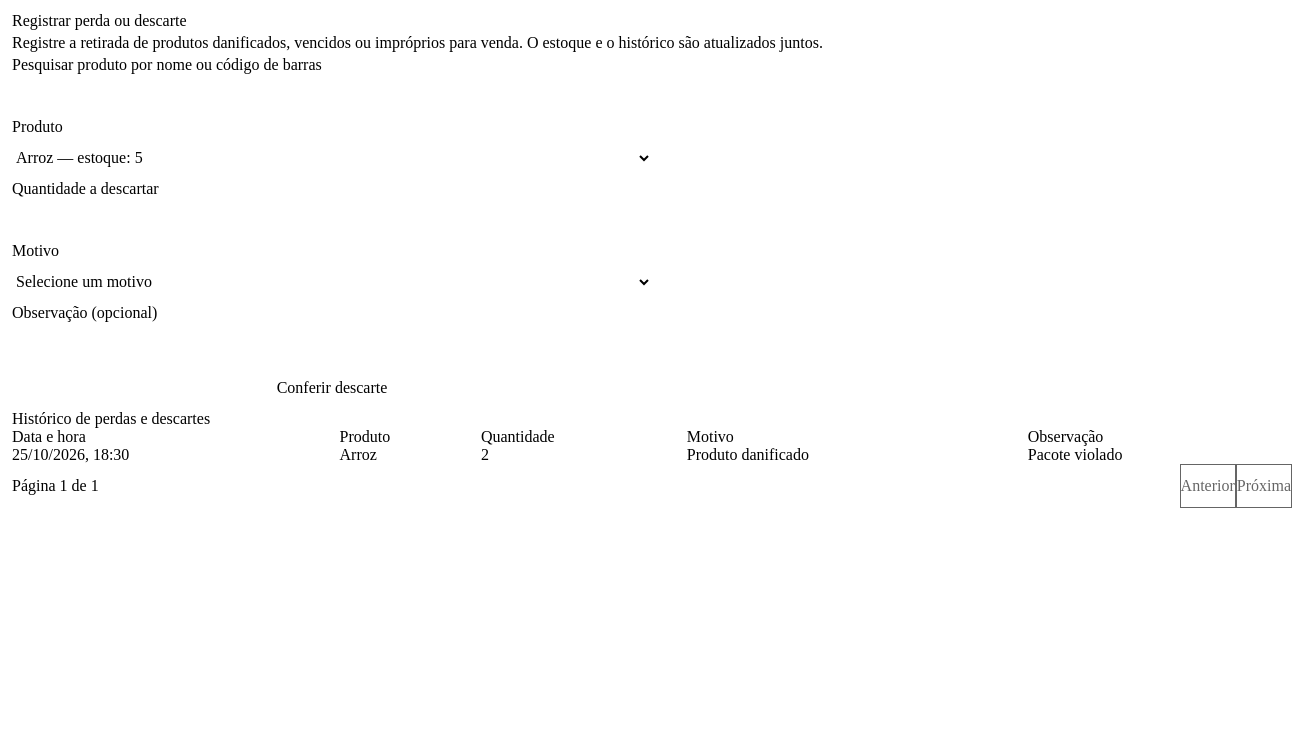
Test case: DiscardsPage › exibe formulário, estoque do produto e histórico específico de descartes
Select "Arroz — estoque: 5" in the dropdown with id "discard-product" at (332, 158), box x1=12 y1=136 x2=652 y2=180
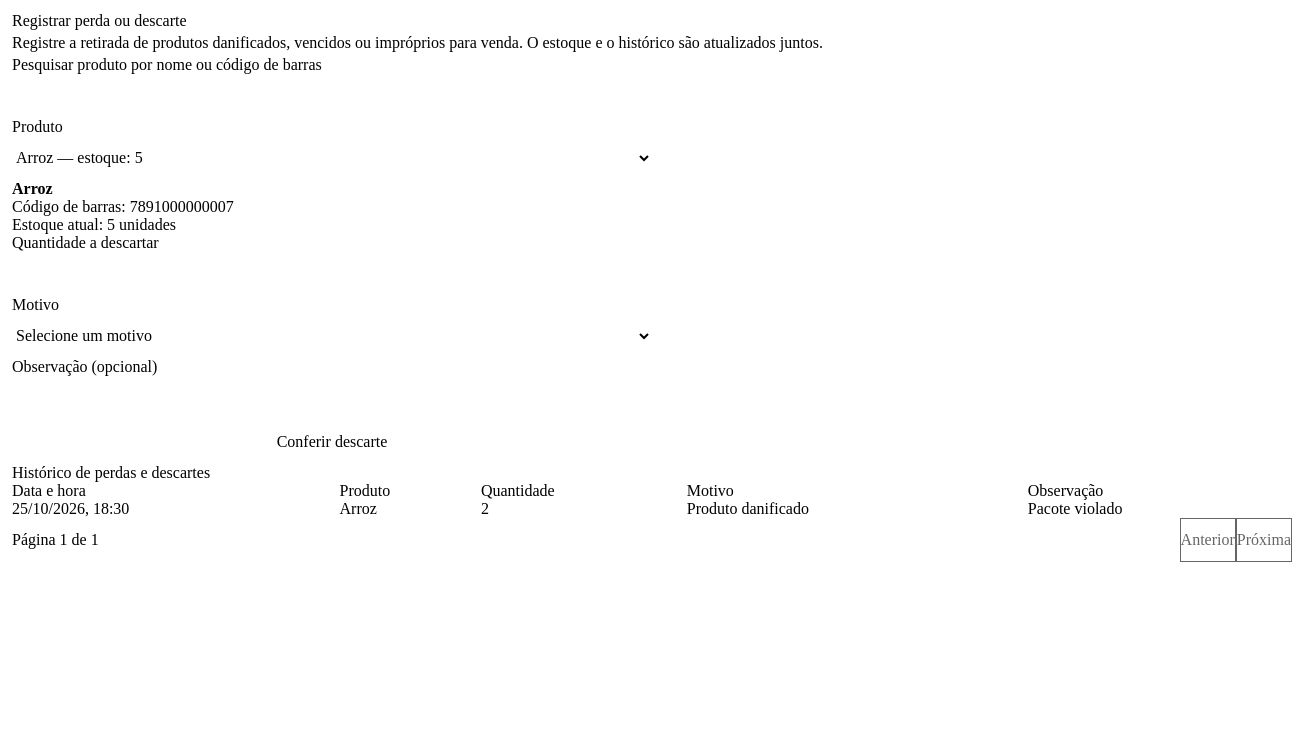
Check: the text "Registrar perda ou descarte" is shown, box x1=12 y1=12 x2=187 y2=29
Check: the text "Estoque atual: 5 unidades" is shown, box x1=12 y1=216 x2=176 y2=233
